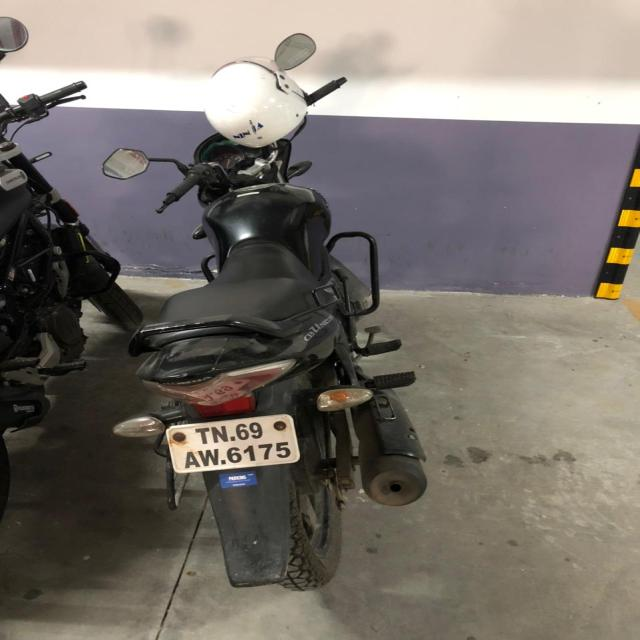number plate: (164, 413, 300, 474)
